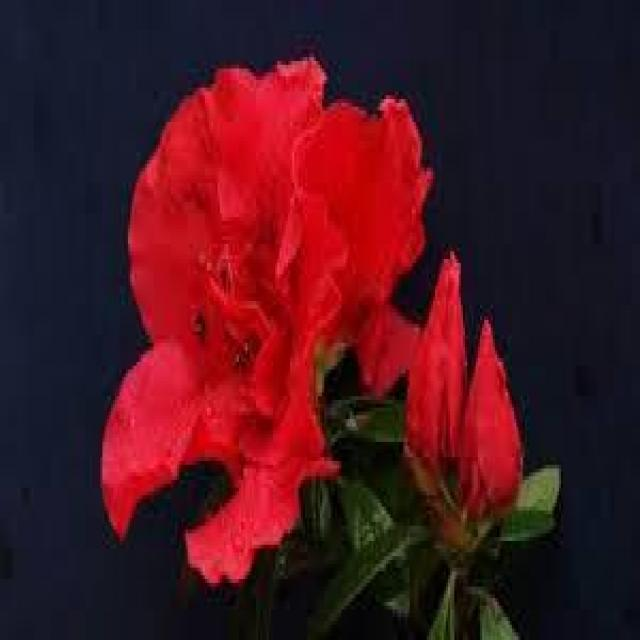organic waste: (88, 44, 433, 566)
